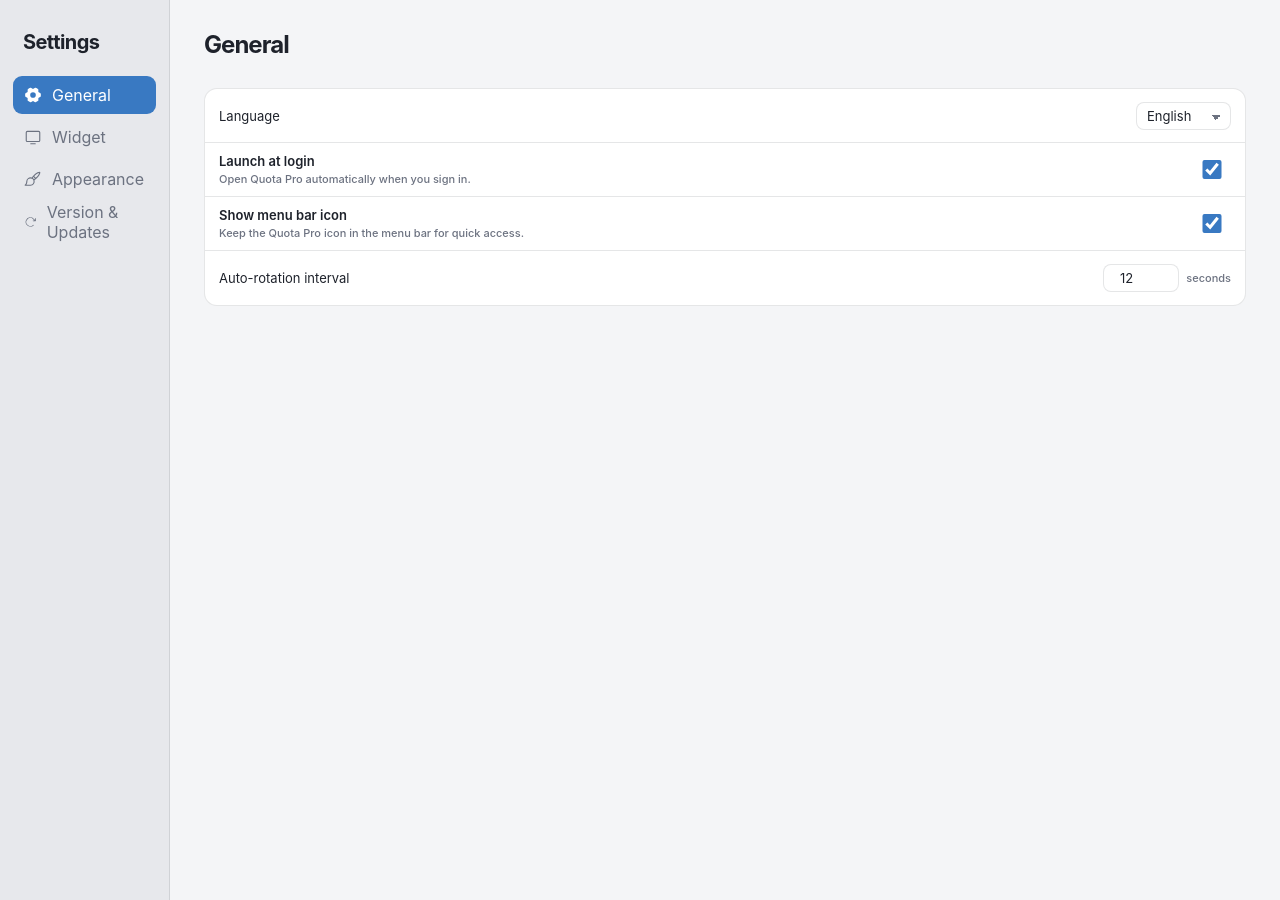
SettingsPanel live controls › keeps the launch toggle aligned with verified native state and restores it on failure
Expected: the heading "General" is shown, [204, 30, 289, 59]
Click the checkbox labelled "Launch at login" at (1212, 170), box [1196, 160, 1228, 179]
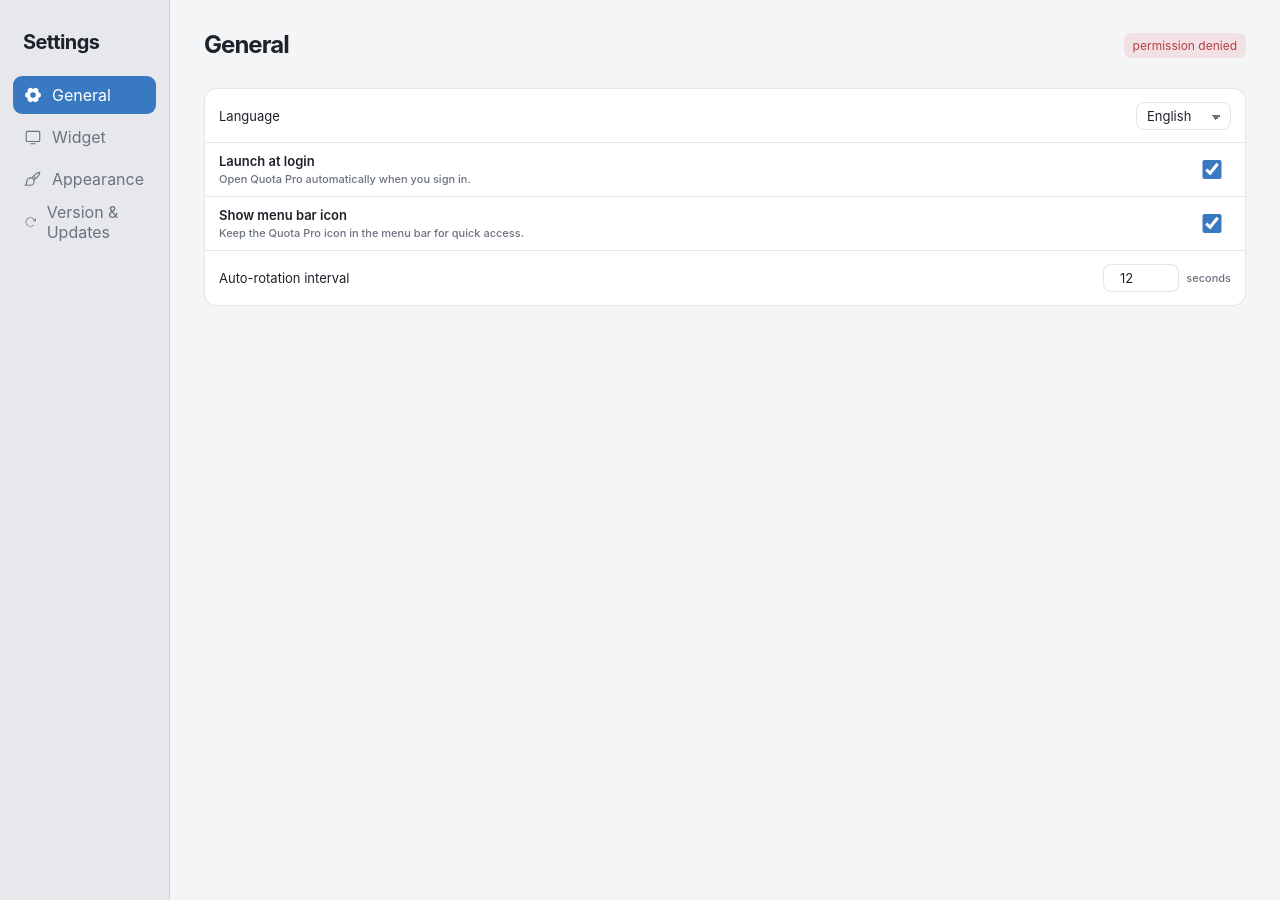
Result: the message reads "permission denied" at [1133, 38, 1237, 53]
